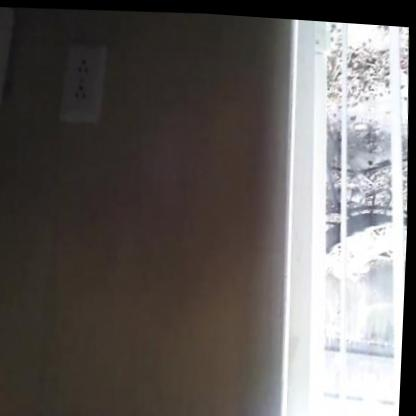OUTLET: (54, 37, 113, 127)
